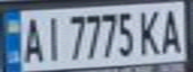5: (115, 8, 139, 57)
7: (81, 10, 103, 60), (63, 11, 84, 61), (100, 9, 118, 57)
A: (157, 4, 187, 55), (18, 12, 45, 63)
I: (39, 11, 63, 63)
K: (136, 7, 163, 56)
